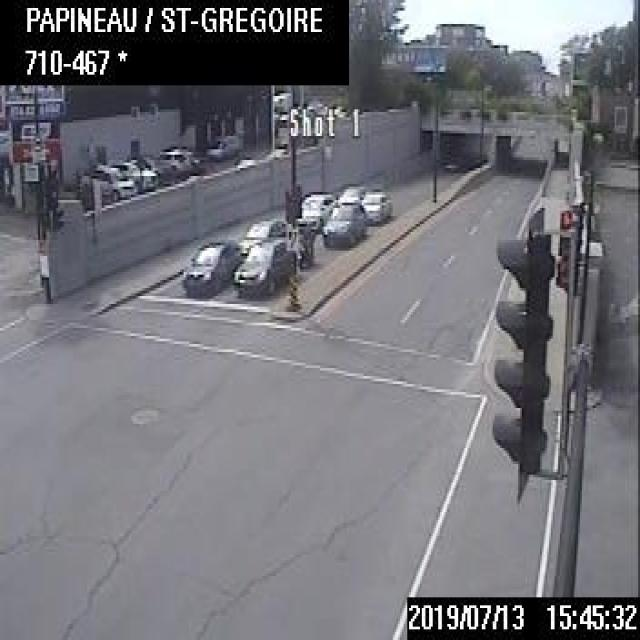vehicle: (232, 237, 297, 297), (184, 236, 239, 294), (80, 162, 136, 204), (238, 215, 292, 253), (325, 204, 368, 246), (106, 158, 156, 192), (295, 189, 334, 228), (204, 132, 245, 165), (360, 189, 392, 226), (156, 146, 188, 174), (334, 181, 366, 205), (179, 146, 206, 170)
